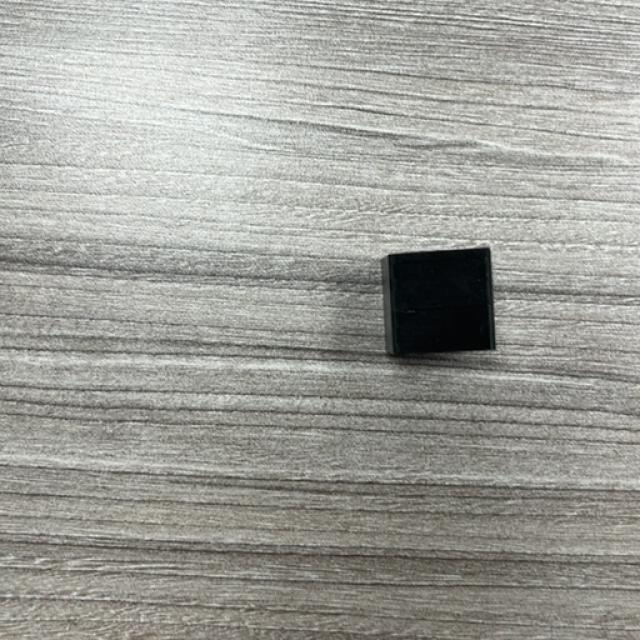Negro: (382, 246, 496, 358)
